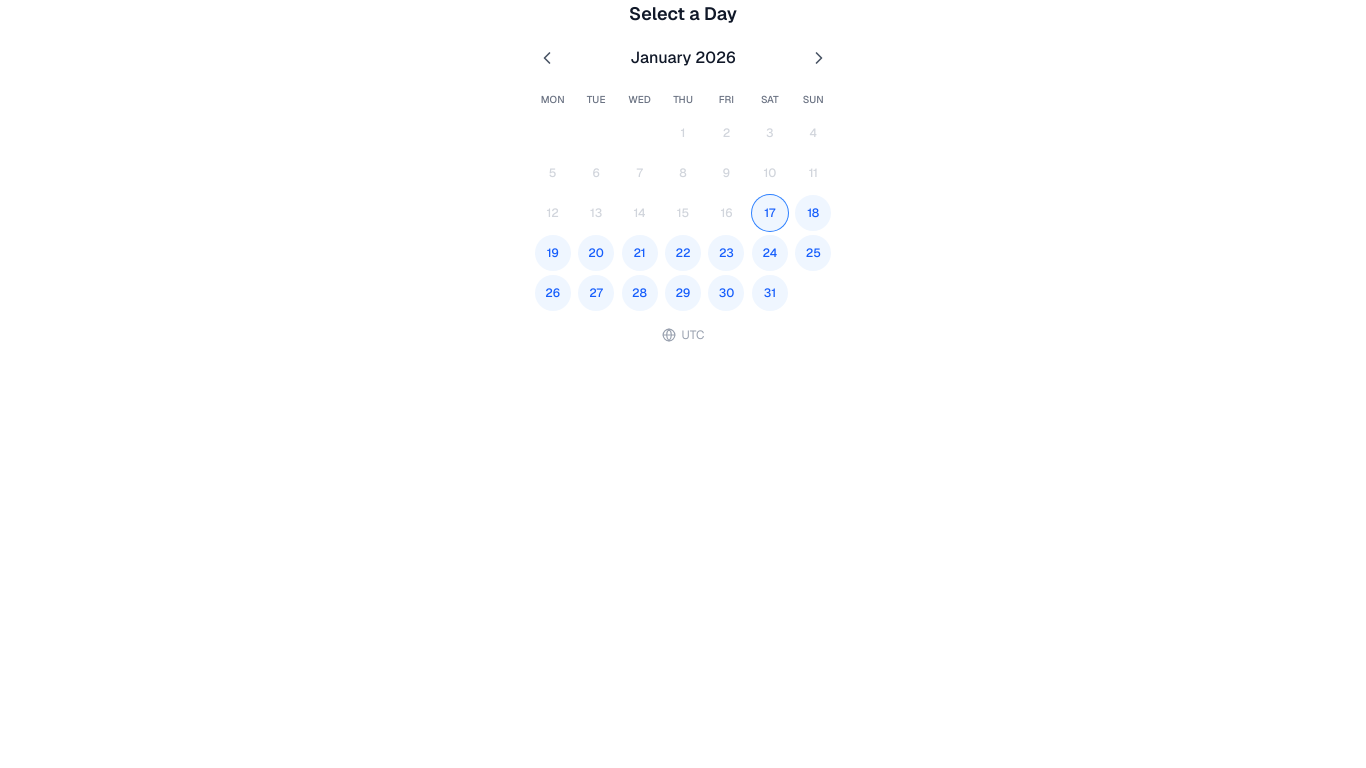
Test case: BookingForm › Navigation › should allow going back from details to time selection
This screenshot has width=1366, height=768.
Step 1. Click the button "31" → [770, 293], box [752,275,788,311]
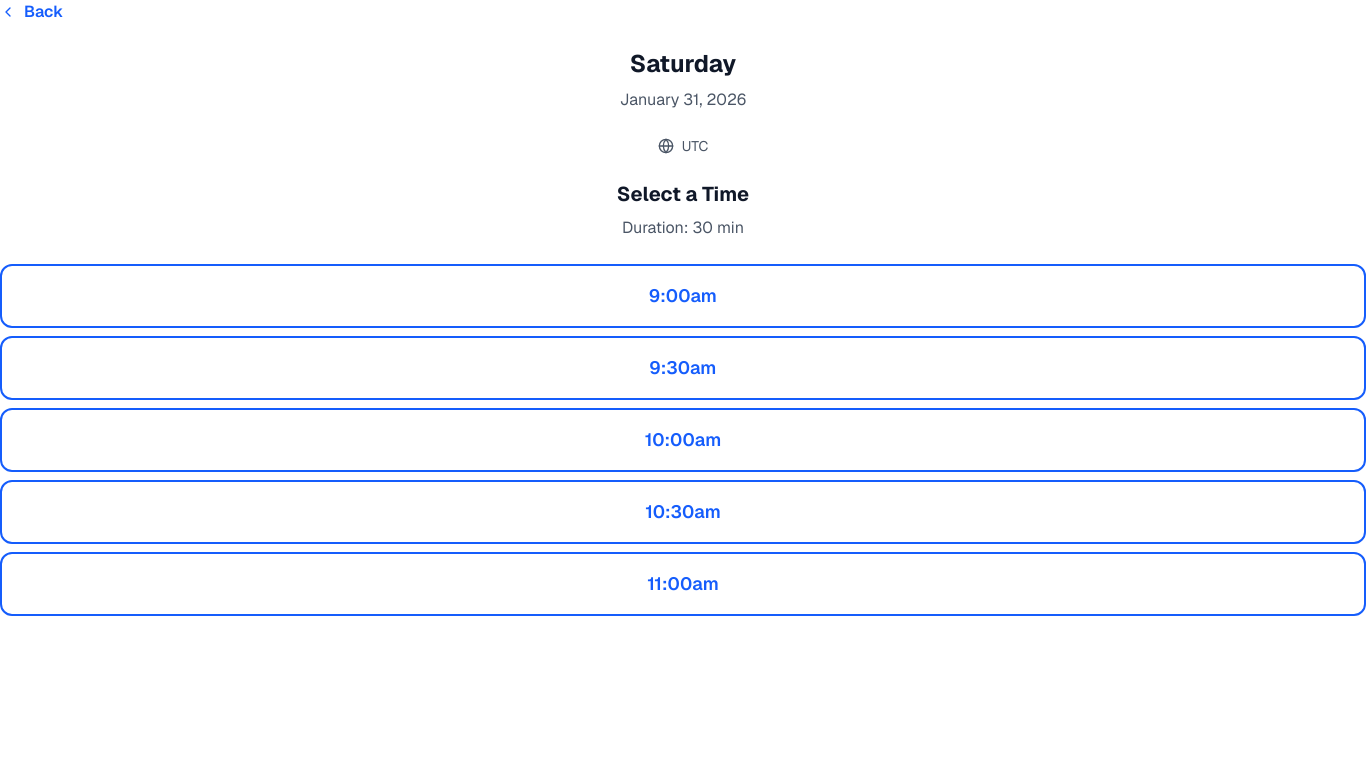
Expected: the button "9:00am" is shown
Step 2. Click the button "9:00am" → [683, 296], box [0,264,1365,328]
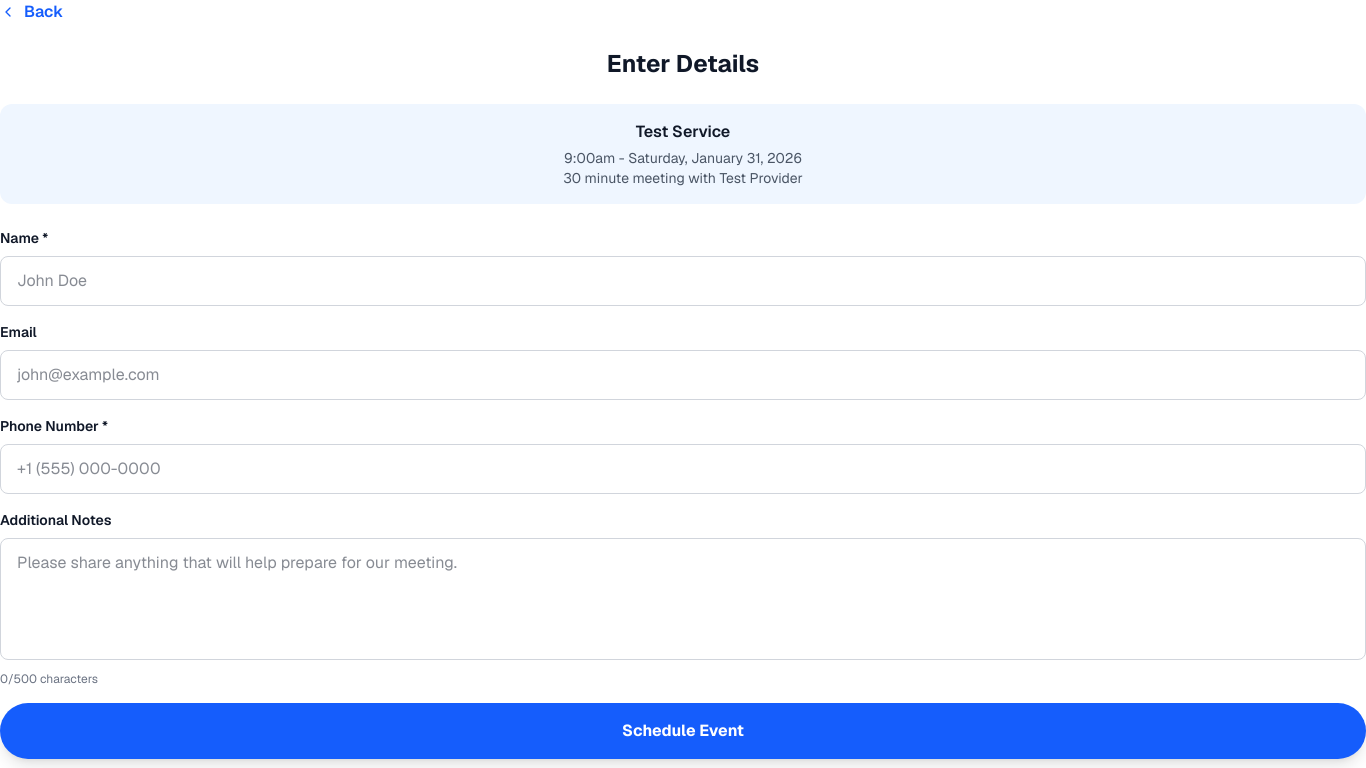
Expected: the heading "Enter Details" is shown, [607,48,759,79]
// Click back
Step 3. Click the button "Back" → [32, 12], box [0,0,63,24]
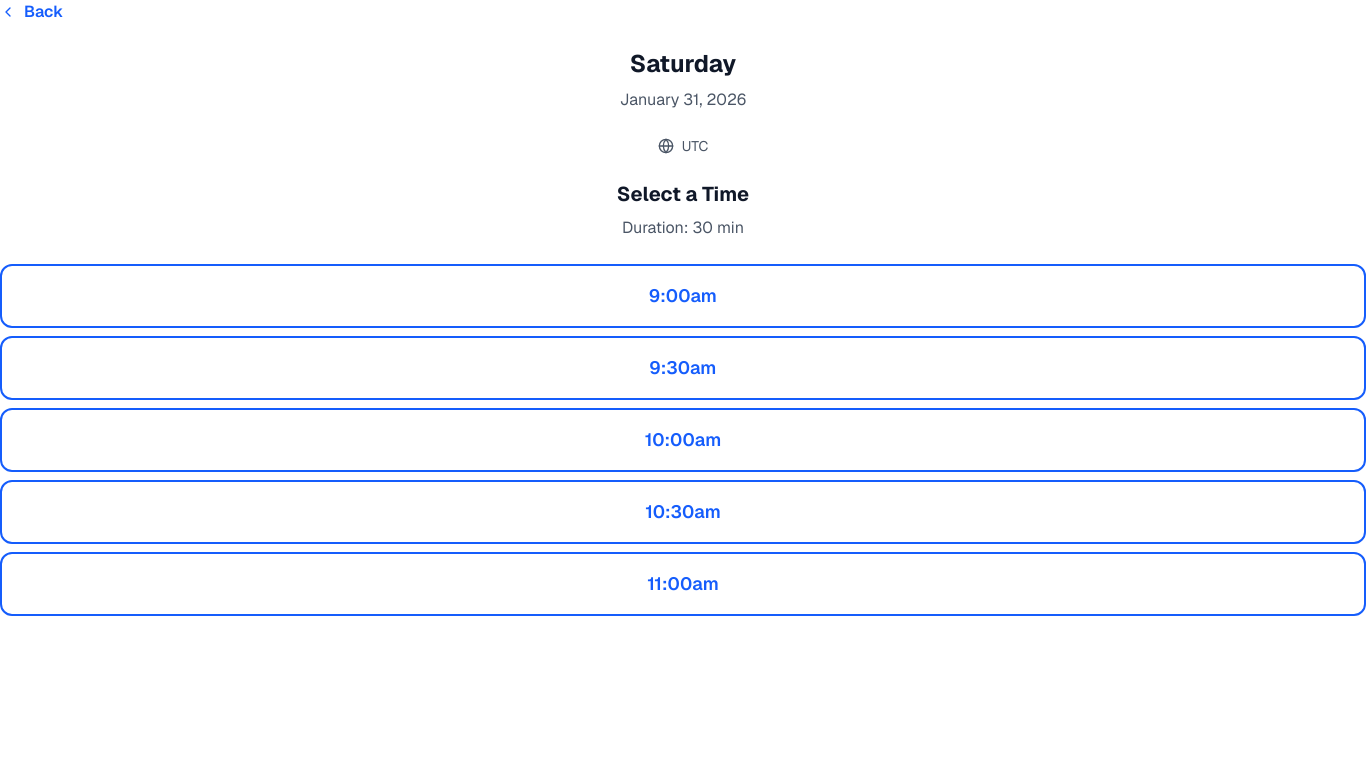
Expected: the heading "Select a Time" is shown, [617,181,749,207]
